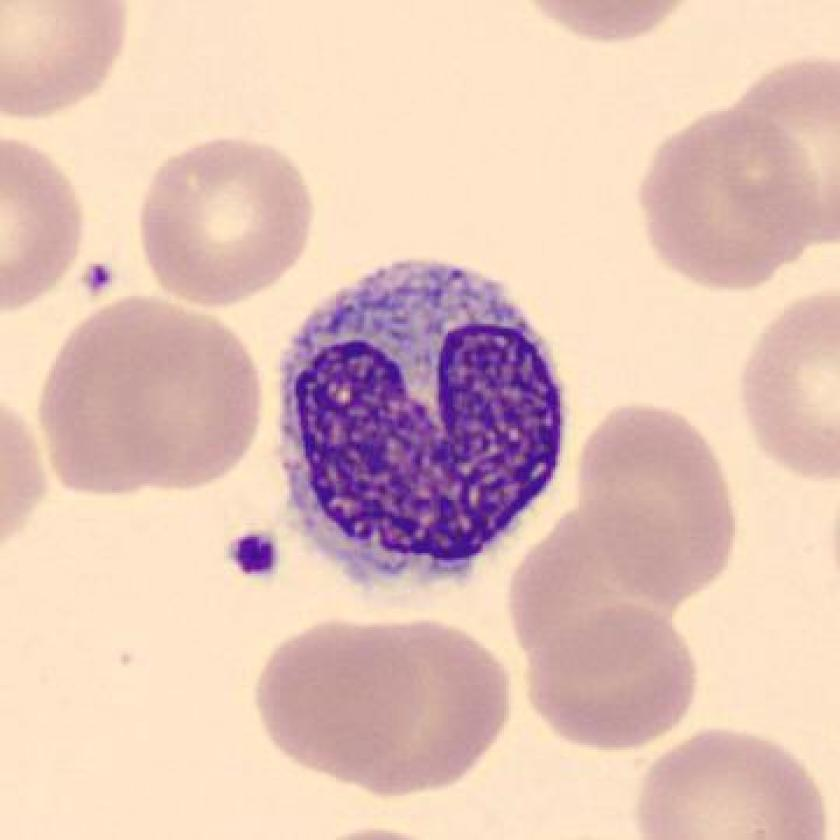monocyte: (260, 235, 587, 614)
